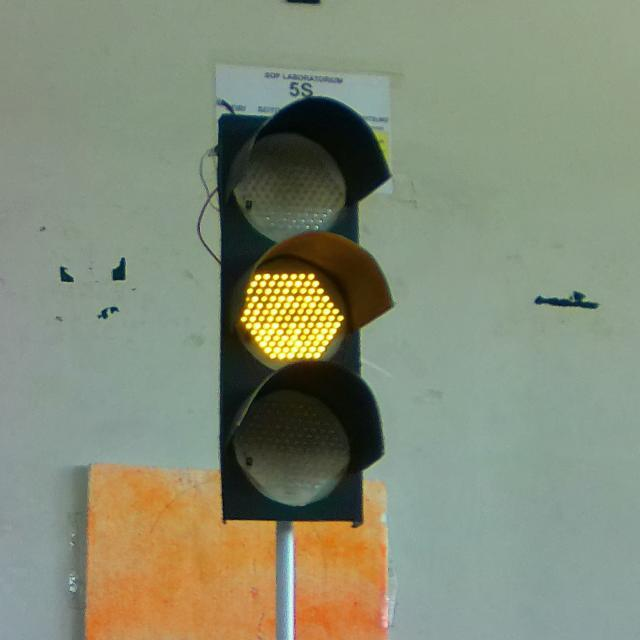traffic sign: (220, 100, 394, 527)
